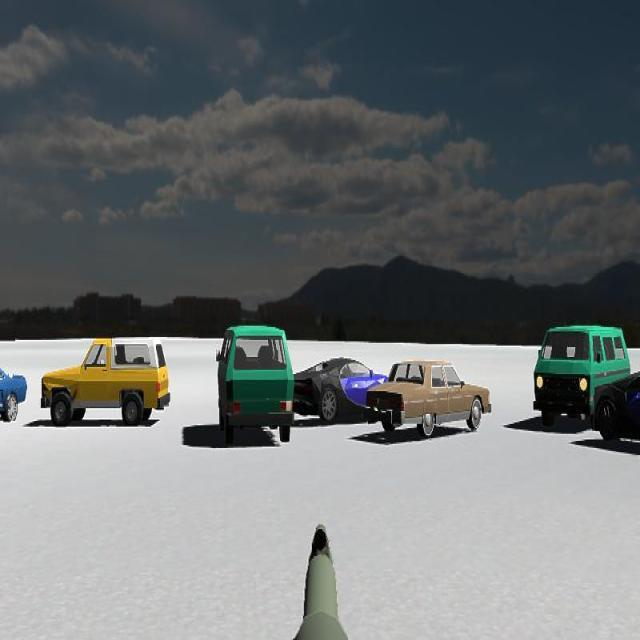car: (40, 336, 171, 428), (533, 323, 633, 430), (366, 359, 492, 438), (216, 323, 294, 444), (292, 356, 393, 425), (592, 367, 640, 456), (0, 354, 27, 424)
